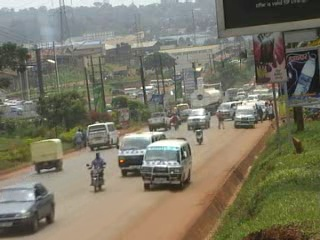Car: (0, 181, 59, 236), (179, 107, 194, 124)
Motorcycle: (85, 150, 109, 193), (192, 119, 205, 144), (170, 111, 181, 133)
